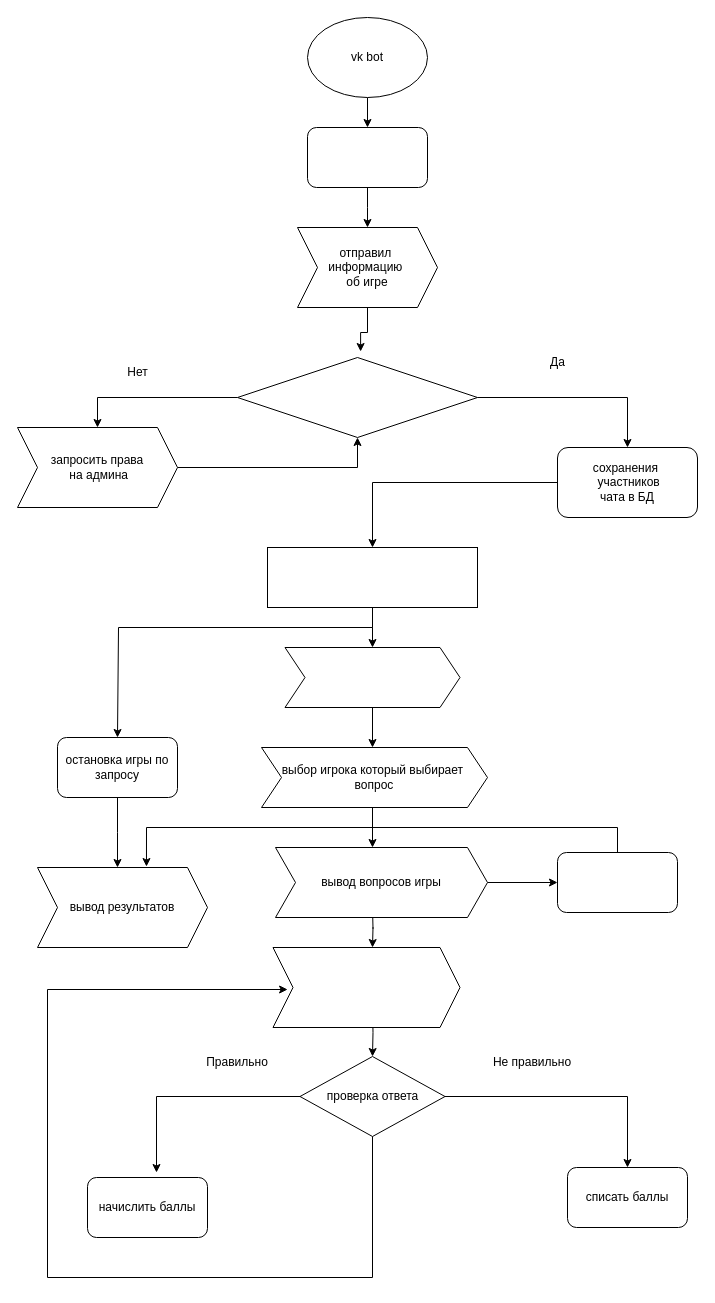
Image size: 715x1303. Some labels were removed from this diagram. The shapes that lost their labels are listed below. From the top down, each one's centre as x and y in pixels, then its label:
At point (367, 157): "добавили в чат".
At point (357, 397): "проверить - бот админ чата?".
At point (372, 577): "ожидание начала игры".
At point (372, 677): "вывод тем вопросов игры".
At point (617, 882): "вопросов больше нет".
At point (366, 987): "вывод выбранного ответа".
